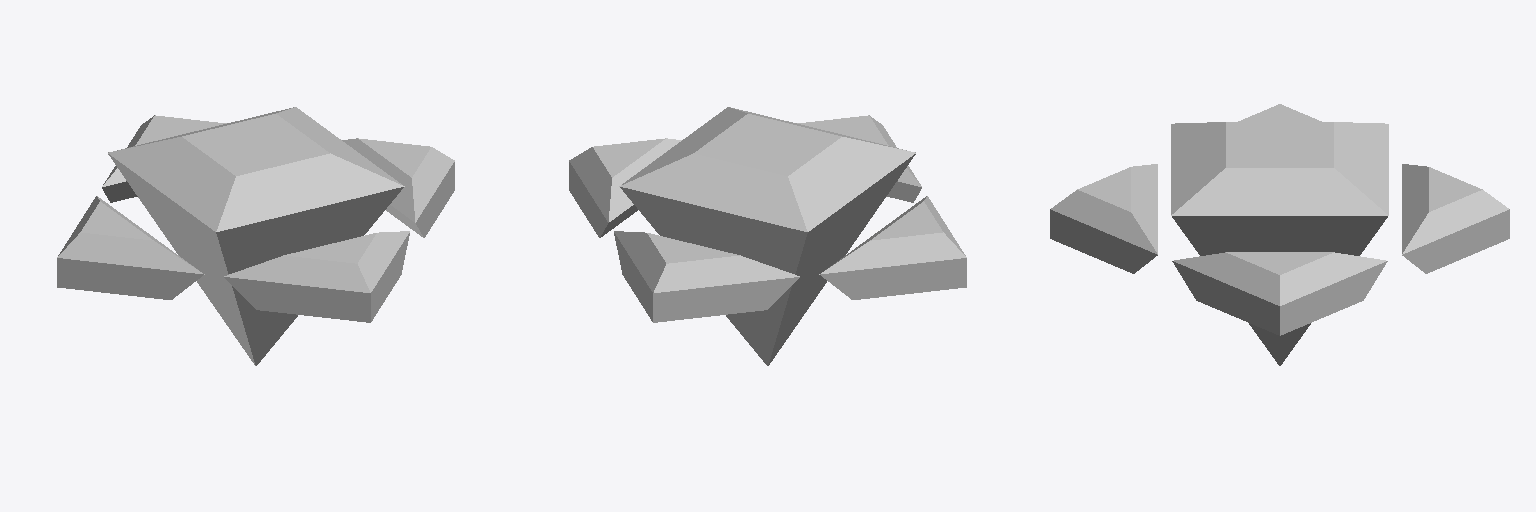
File: rocket.obj
3 renders of one model, left to right at view 1: azimuth 30°, elevation 25°; view 2: azimuth 150°, elevation 25°; view 3: azimuth 270°, elevation 25°, orthographic.
Visible parts, largest first — view 1: Cube; view 2: Cube; view 3: Cube.
Boxes of the visible parts, <box> form: Cube: <box>57,107,454,365</box>; Cube: <box>569,107,966,365</box>; Cube: <box>1050,104,1509,365</box>.
Size of the model in its own units: 1.06 by 0.5625 by 1.06.